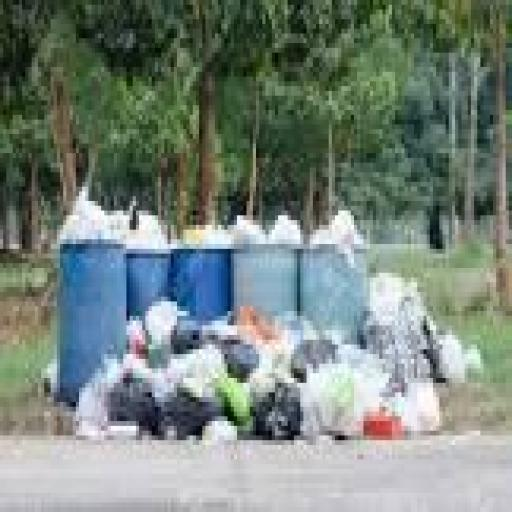poubelle_pleine: (35, 176, 141, 421), (220, 158, 313, 428), (160, 177, 244, 437), (286, 198, 388, 408), (117, 175, 176, 406)
